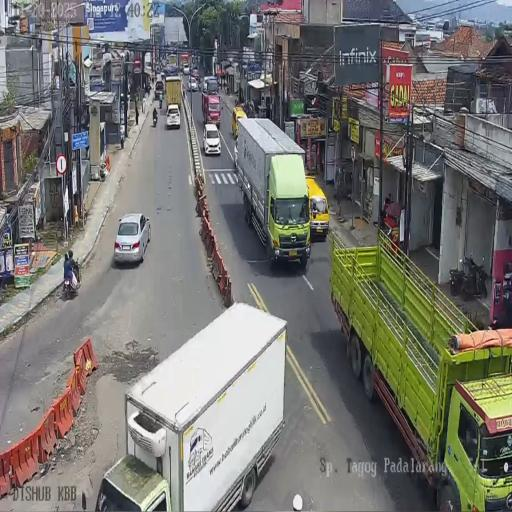3: (116, 303, 286, 512), (238, 117, 306, 268), (202, 91, 220, 128), (144, 52, 152, 75), (167, 54, 177, 72)
car: (114, 212, 151, 264), (304, 176, 328, 240), (202, 123, 222, 155), (232, 106, 247, 141), (166, 104, 181, 130), (203, 76, 218, 94), (187, 76, 197, 91), (161, 58, 169, 70), (155, 63, 161, 74), (183, 65, 189, 75)
truck: (159, 92, 163, 109)
